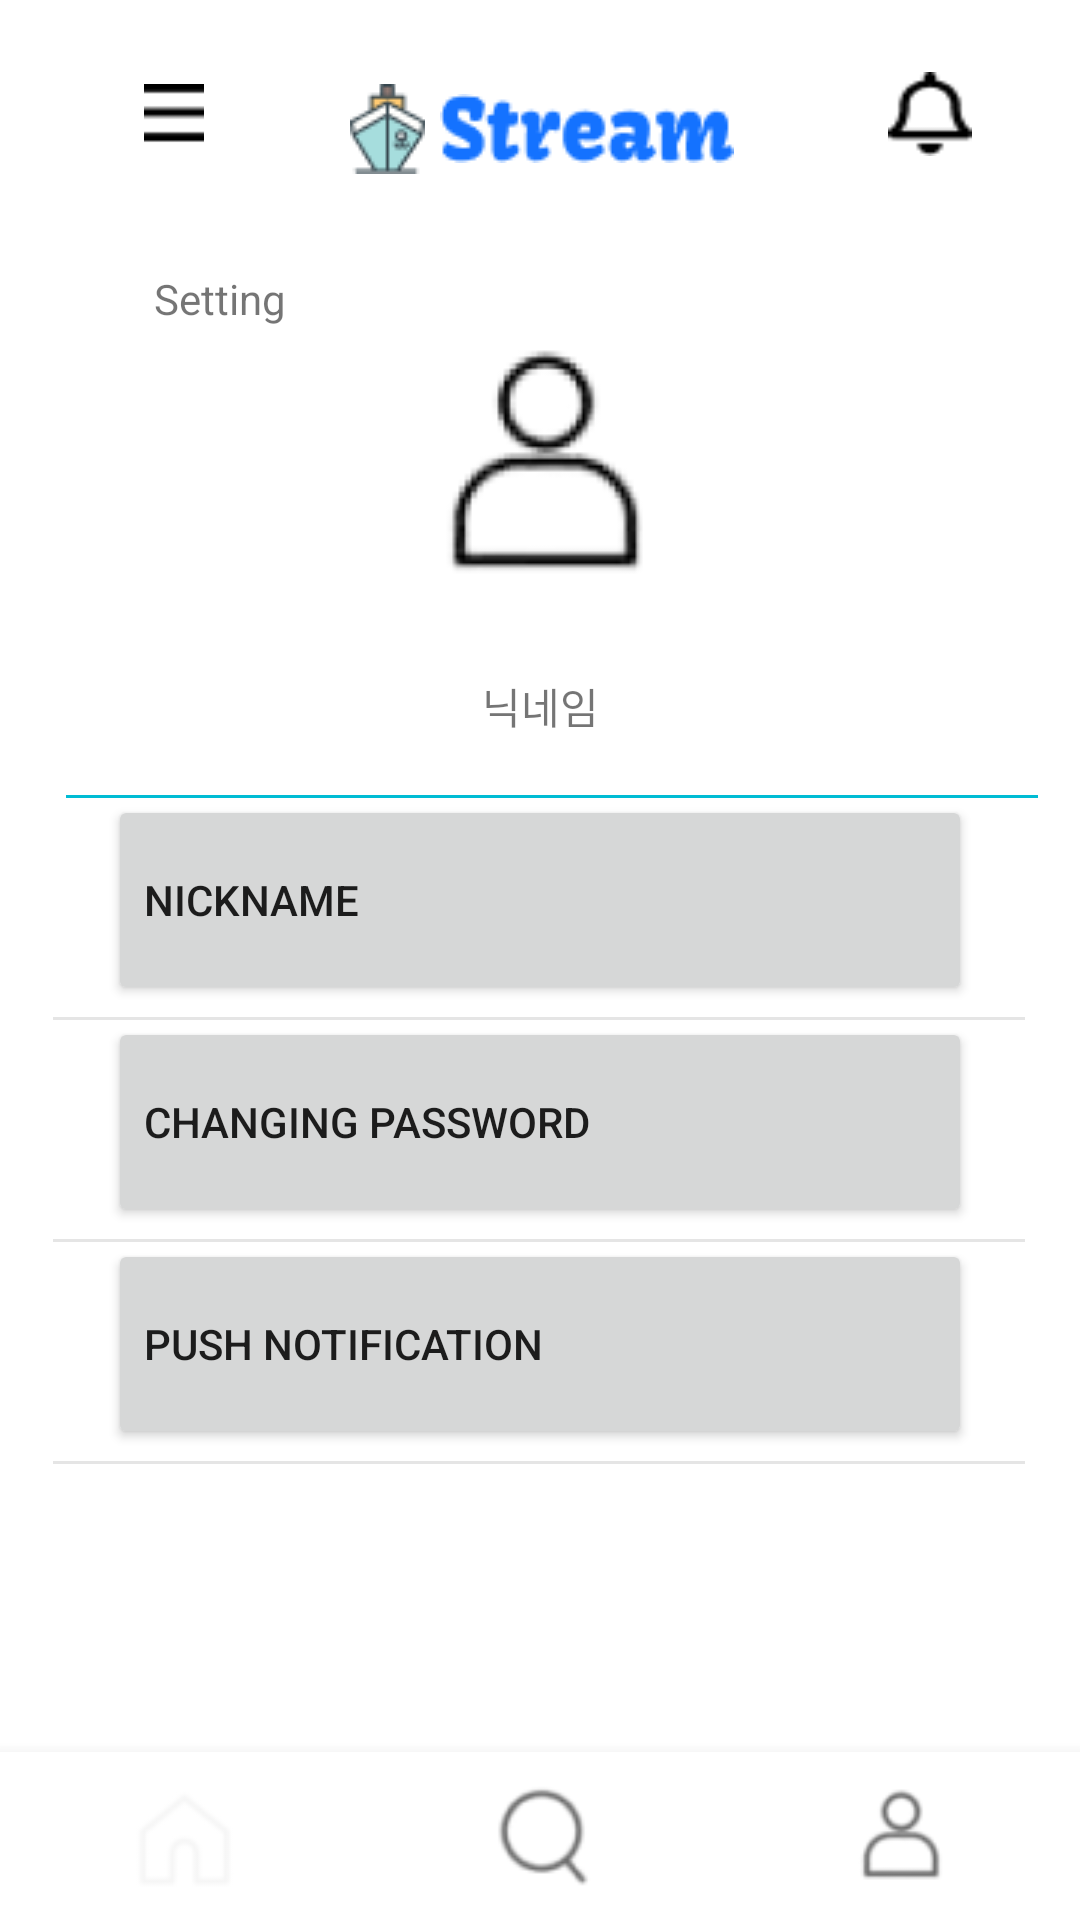

Icons on this 1080 × 1920 Android screen, each with its box as (x1, y1, x2, y2):
iconbell: (888, 72, 972, 156)
iconcruiseship: (350, 84, 425, 174)
iconme: (452, 351, 640, 569)
